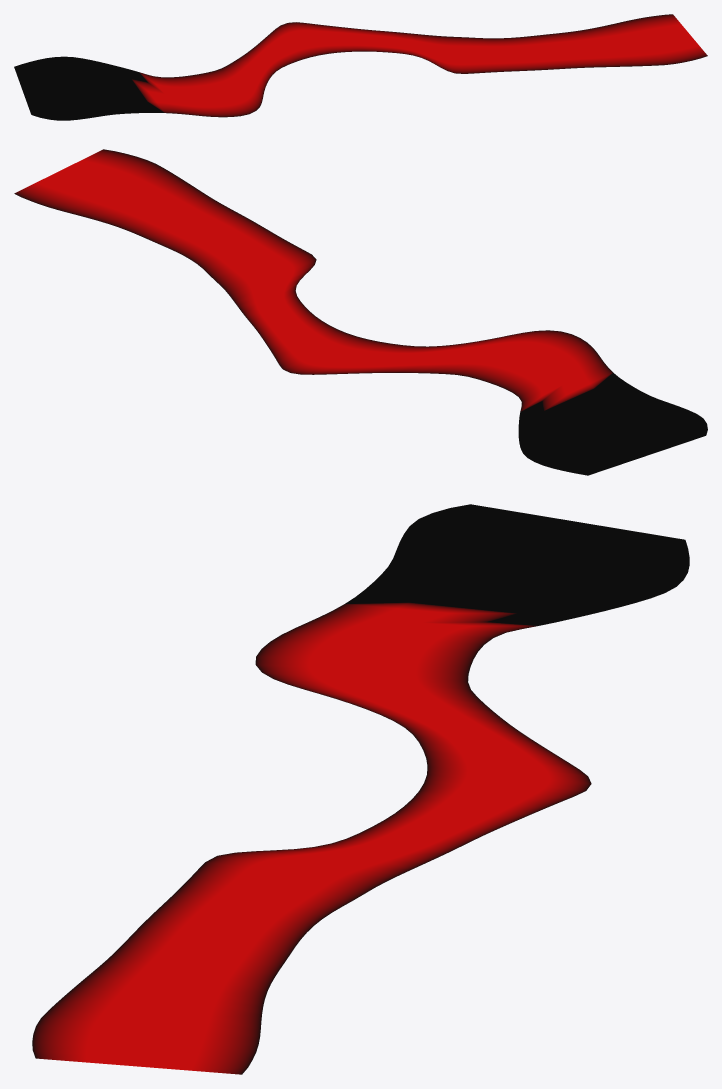
File: WaterRiverStraightenUV_Mesh.fbx
3 renders of one model, top to bottom at view 1: azimuth 30°, elevation 25°; view 2: azimuth 150°, elevation 25°; view 3: azimuth 270°, elevation 25°, orthographic. The views are drawn at different scales.
Visible parts, largest first — view 1: nurbsToPoly1; view 2: nurbsToPoly1; view 3: nurbsToPoly1.
Boxes of the visible parts, x1,y1,x2,y2 form: nurbsToPoly1: (14,14,707,120); nurbsToPoly1: (14,149,707,475); nurbsToPoly1: (32,504,689,1074).
Size of the model in its own units: 181 by 0 by 88.31.
